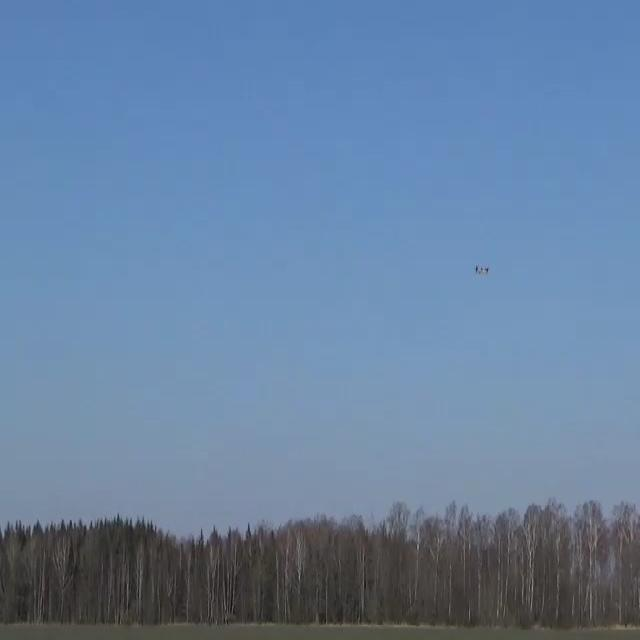drone: (474, 264, 488, 274)
